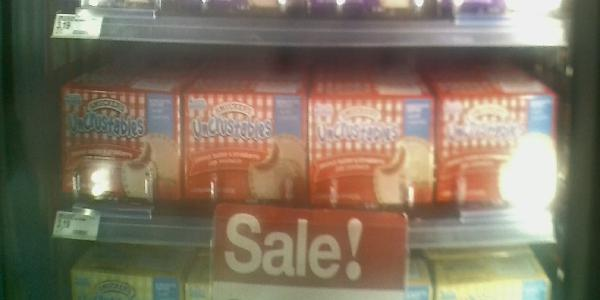icecream: (298, 79, 443, 230), (54, 63, 182, 231), (177, 68, 313, 222), (439, 90, 562, 226)
